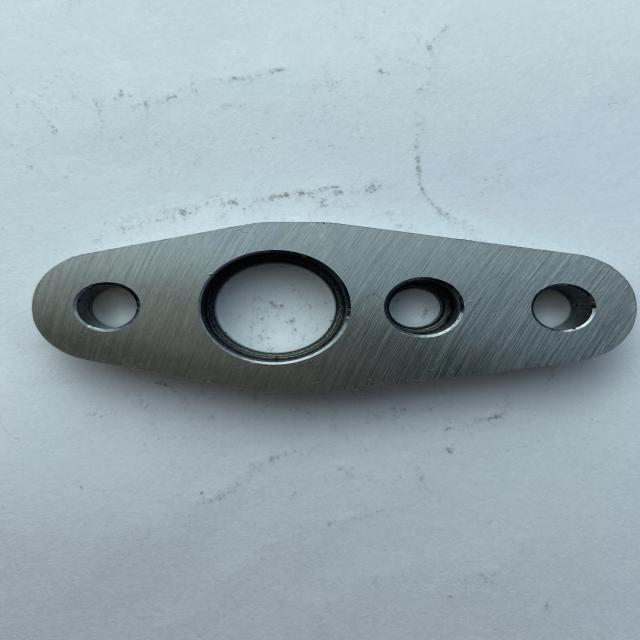chap: (466, 298, 474, 302), (571, 328, 578, 332), (208, 272, 214, 276), (405, 272, 410, 276)
lines: (366, 290, 384, 313), (238, 226, 256, 234)
